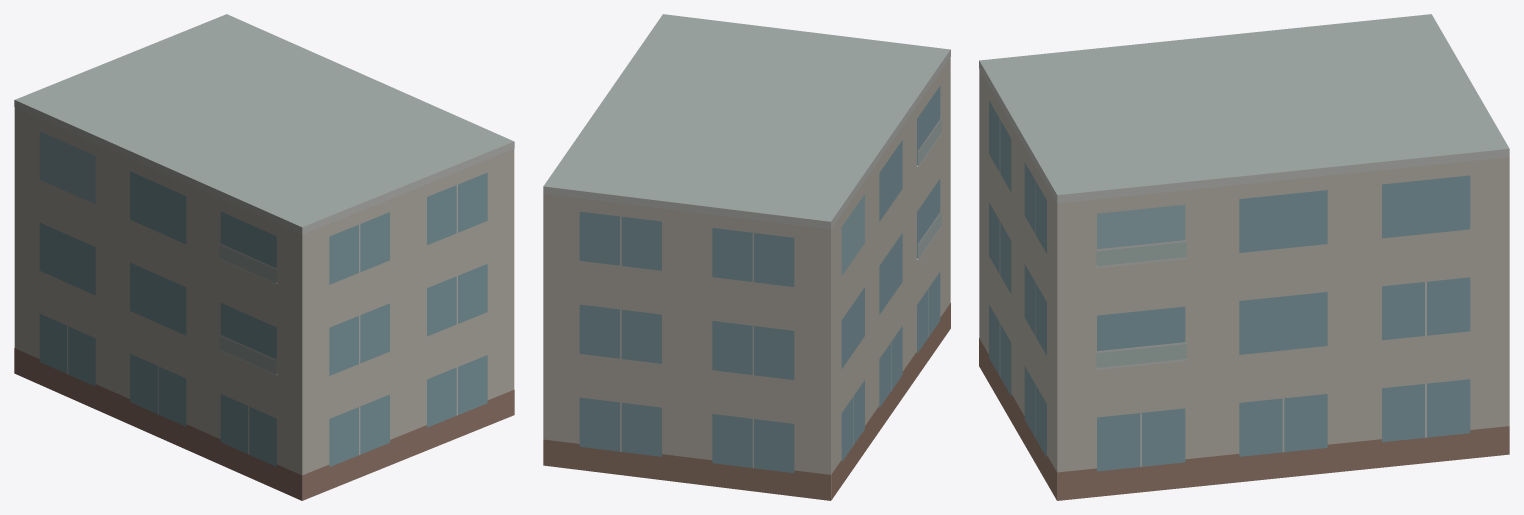
File: survey-upis-32646199.glb
3 renders of one model, left to right at view 1: azimuth 30°, elevation 25°; view 2: azimuth 150°, elevation 25°; view 3: azimuth 270°, elevation 25°, orthographic. The views are drawn at different scales.
Parts seen in each view (by area): view 1: survey-upis-32646199.tmp; view 2: survey-upis-32646199.tmp; view 3: survey-upis-32646199.tmp.
Part boxes in pixels (bbox=[...]): survey-upis-32646199.tmp: bbox=[14, 14, 514, 500]; survey-upis-32646199.tmp: bbox=[543, 14, 950, 500]; survey-upis-32646199.tmp: bbox=[979, 14, 1509, 500].
Bounding box in the file's own units: 11.64 × 9.15 × 14.4.
